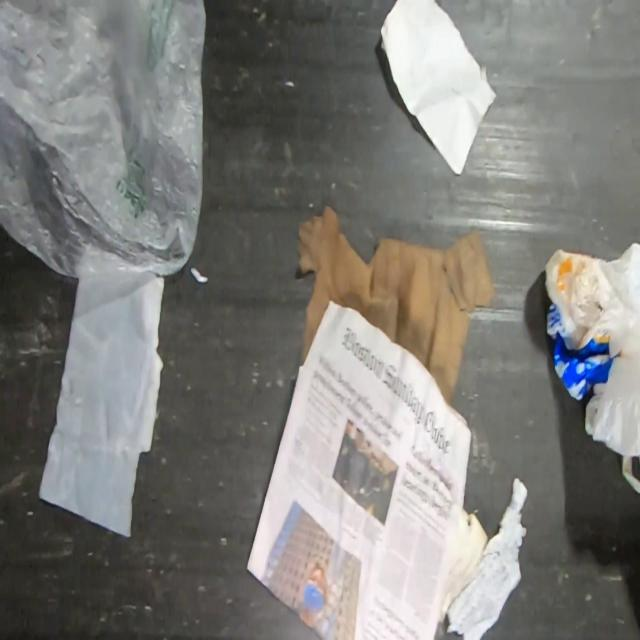soft_plastic: (0, 0, 208, 282), (37, 275, 165, 540), (544, 241, 640, 496), (546, 303, 613, 403)
